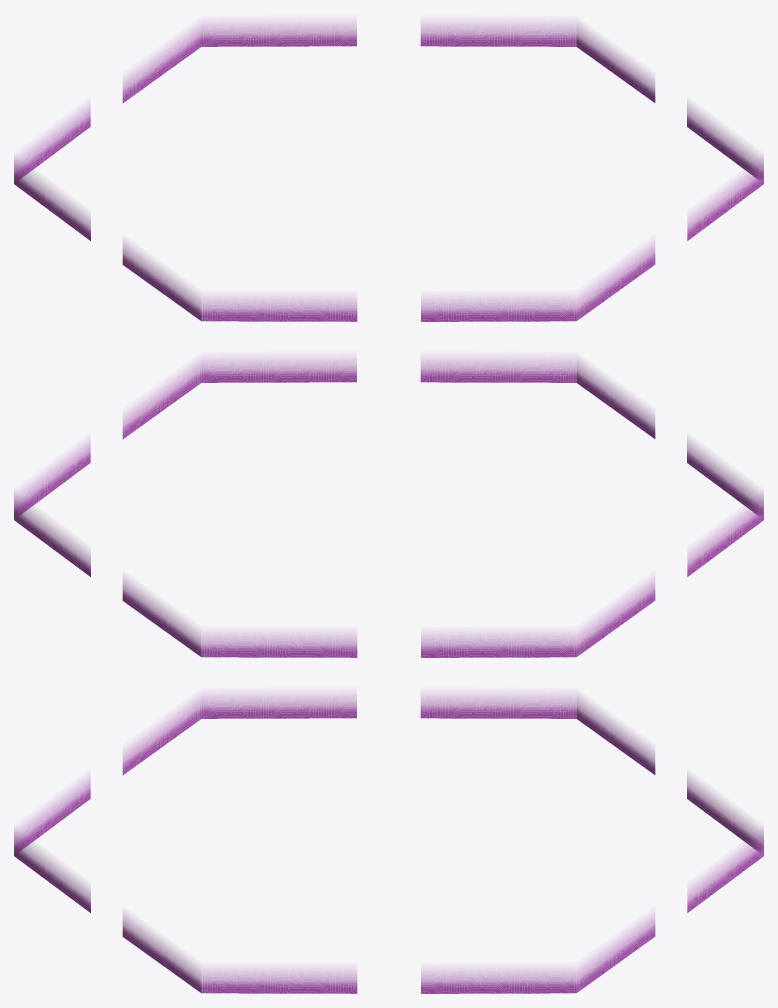
The model's file is PlatformBarrier01_Art.glb.
3 views of the same model, one above another, from view 1: azimuth 30°, elevation 25°; view 2: azimuth 150°, elevation 25°; view 3: azimuth 270°, elevation 25° (orthographic).
Visible parts, largest first — view 1: PlatformBarrier01_Art; view 2: PlatformBarrier01_Art; view 3: PlatformBarrier01_Art.
Part boxes in pixels (<box>): PlatformBarrier01_Art: <box>14,21,763,321</box>; PlatformBarrier01_Art: <box>14,357,763,657</box>; PlatformBarrier01_Art: <box>14,693,763,993</box>.
Size of the model in its own units: 58.92 by 3.22 by 67.75.
1 material, 1 textured.
